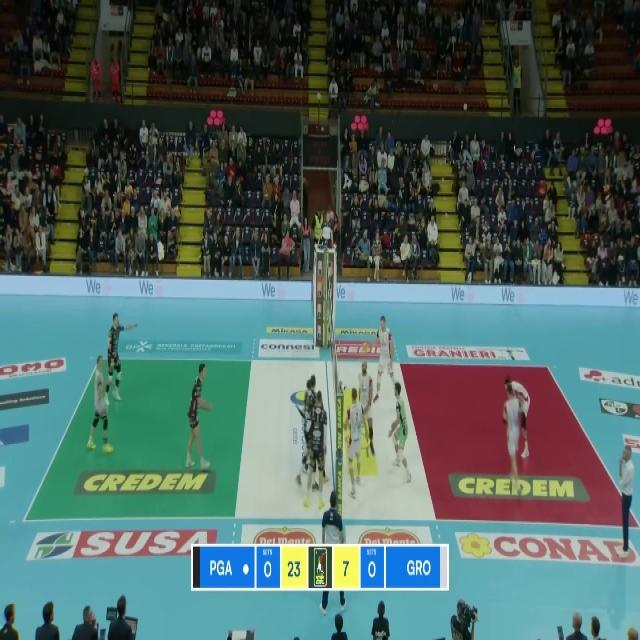volleyball court: (22, 355, 639, 524)
